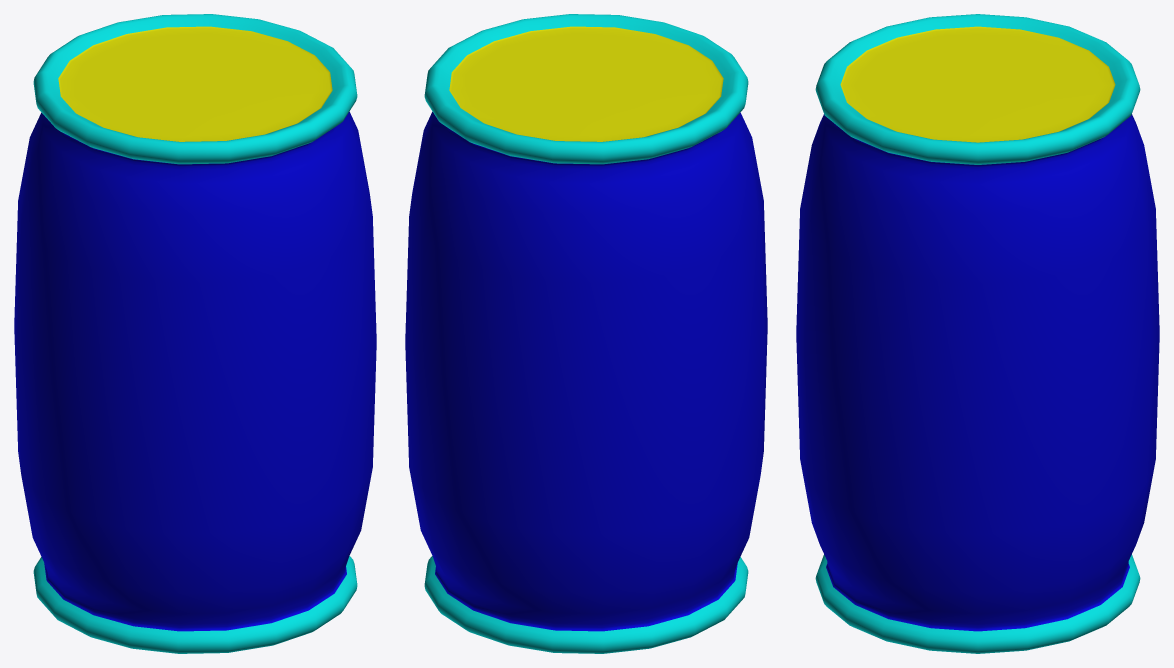
File: Water_Barrel-v2.fbx
The picture shows the model from 3 angles, left to right: view 1: azimuth 30°, elevation 25°; view 2: azimuth 150°, elevation 25°; view 3: azimuth 270°, elevation 25°; orthographic projection.
Visible parts, largest first — view 1: Water_Barrel; view 2: Water_Barrel; view 3: Water_Barrel.
Part boxes in pixels (<box>): Water_Barrel: <box>14,14,376,653</box>; Water_Barrel: <box>405,14,767,653</box>; Water_Barrel: <box>796,14,1159,653</box>.
Bounding box in the file's own units: 72.01 × 111 × 71.92.
